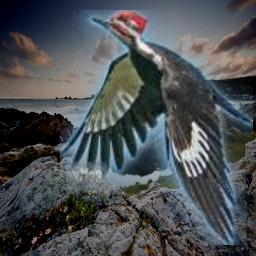Woodpecker: (60, 10, 253, 245)
